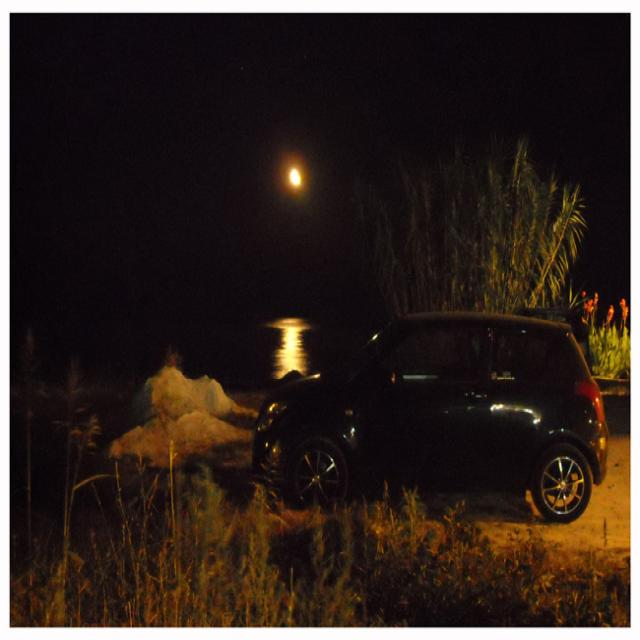Car: (207, 260, 640, 540)
